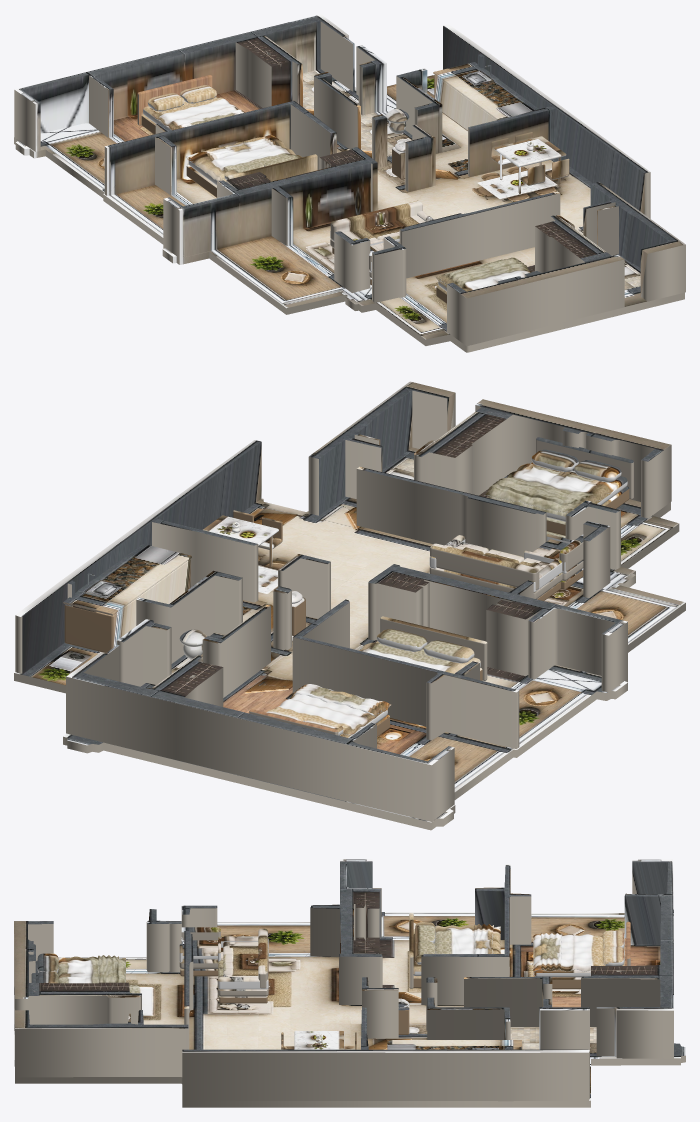
Rendered from p6-02-u02-2112-image-model.glb.
3 views of the same model, one above another, from view 1: azimuth 30°, elevation 25°; view 2: azimuth 150°, elevation 25°; view 3: azimuth 270°, elevation 25° (orthographic). The views are drawn at different scales.
Parts seen in each view (by area): view 1: Partition walls, Apartment floor, Stone worktop, Draped bed linen.002, Kitchen cabinets, Sofa back, Draped bed linen, Marble dining top, Upholstered headboard.001, Draped bed linen.003, Upholstered headboard, Draped bed linen.004 (+1 smaller); view 2: Partition walls, Apartment floor, Kitchen cabinets, Stone worktop, Draped bed linen.004, Sofa back, Draped bed linen, Upholstered headboard.001, Upholstered headboard.002, Draped bed linen.002, Marble dining top, Draped bed linen.001 (+7 smaller); view 3: Partition walls, Apartment floor, Draped bed linen, Stone worktop, Draped bed linen.002, Draped bed linen.004, Marble dining top, Draped bed linen.001, Padded armrest.001, Draped bed linen.003, Upholstered sofa frame, Sofa back (+11 smaller).
Part boxes in pixels (x1,y1,x2,y2): Partition walls: [14, 14, 685, 346]; Apartment floor: [14, 69, 684, 352]; Stone worktop: [433, 62, 538, 119]; Draped bed linen.002: [185, 138, 295, 180]; Kitchen cabinets: [434, 75, 496, 130]; Sofa back: [330, 200, 422, 239]; Draped bed linen: [152, 97, 237, 130]; Marble dining top: [494, 136, 566, 167]; Upholstered headboard.001: [227, 154, 317, 181]; Draped bed linen.003: [188, 135, 284, 165]; Upholstered headboard: [137, 75, 212, 125]; Draped bed linen.004: [435, 260, 531, 291]; Partition walls: [15, 381, 671, 821]; Apartment floor: [14, 447, 685, 830]; Kitchen cabinets: [64, 559, 190, 652]; Stone worktop: [63, 544, 191, 615]; Draped bed linen.004: [484, 463, 616, 513]; Sofa back: [430, 543, 539, 589]; Draped bed linen: [275, 684, 391, 735]; Upholstered headboard.001: [380, 616, 487, 680]; Upholstered headboard.002: [536, 437, 633, 499]; Draped bed linen.002: [358, 642, 466, 673]; Marble dining top: [203, 515, 278, 545]; Draped bed linen.001: [291, 684, 387, 716]; Partition walls: [14, 859, 673, 1101]; Apartment floor: [14, 907, 685, 1107]; Draped bed linen: [533, 934, 603, 971]; Stone worktop: [387, 1040, 521, 1049]; Draped bed linen.002: [434, 925, 500, 953]; Draped bed linen.004: [58, 956, 125, 983]; Marble dining top: [294, 1031, 344, 1049]; Draped bed linen.001: [540, 932, 562, 970]; Padded armrest.001: [218, 977, 268, 989]; Draped bed linen.003: [473, 924, 493, 953]; Upholstered sofa frame: [218, 947, 268, 996]; Sofa back: [258, 928, 267, 988].
Size of the model in its own units: 9.92 by 1.3 by 14.41.
14 materials, 3 textured.
